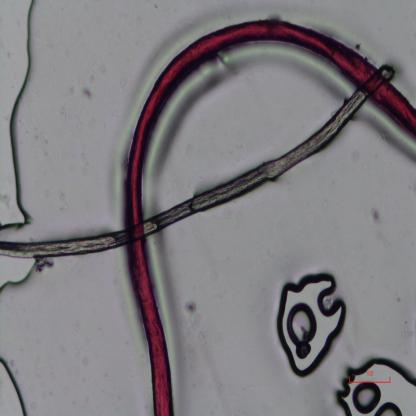Air bubble: (0, 0, 36, 232), (275, 268, 348, 379), (337, 352, 416, 415), (0, 357, 30, 415), (288, 300, 317, 360), (0, 254, 35, 294), (353, 380, 382, 414), (376, 401, 404, 414)
Microfibre: (125, 17, 416, 414), (0, 88, 369, 260)
